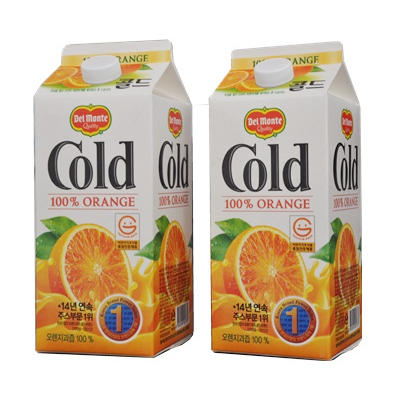carton: (200, 19, 387, 372), (20, 24, 204, 374)
